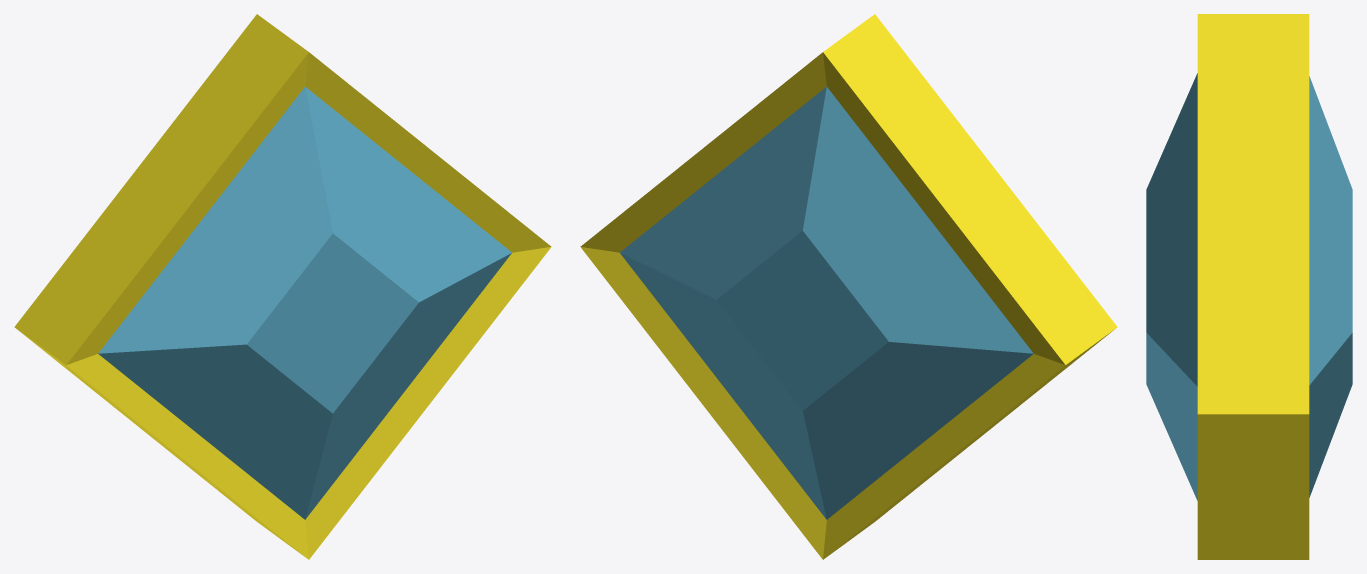
3 renders of one model, left to right at view 1: azimuth 30°, elevation 25°; view 2: azimuth 150°, elevation 25°; view 3: azimuth 270°, elevation 25°, orthographic. The views are drawn at different scales.
Parts seen in each view (by area): view 1: GemaAzul03; view 2: GemaAzul03; view 3: GemaAzul03.
Boxes of the visible parts, x1=… form: GemaAzul03: x1=14, y1=14, x2=551, y2=559; GemaAzul03: x1=580, y1=14, x2=1117, y2=559; GemaAzul03: x1=1146, y1=14, x2=1352, y2=559.
Size of the model in its own units: 71.7 by 71.7 by 24.6.
